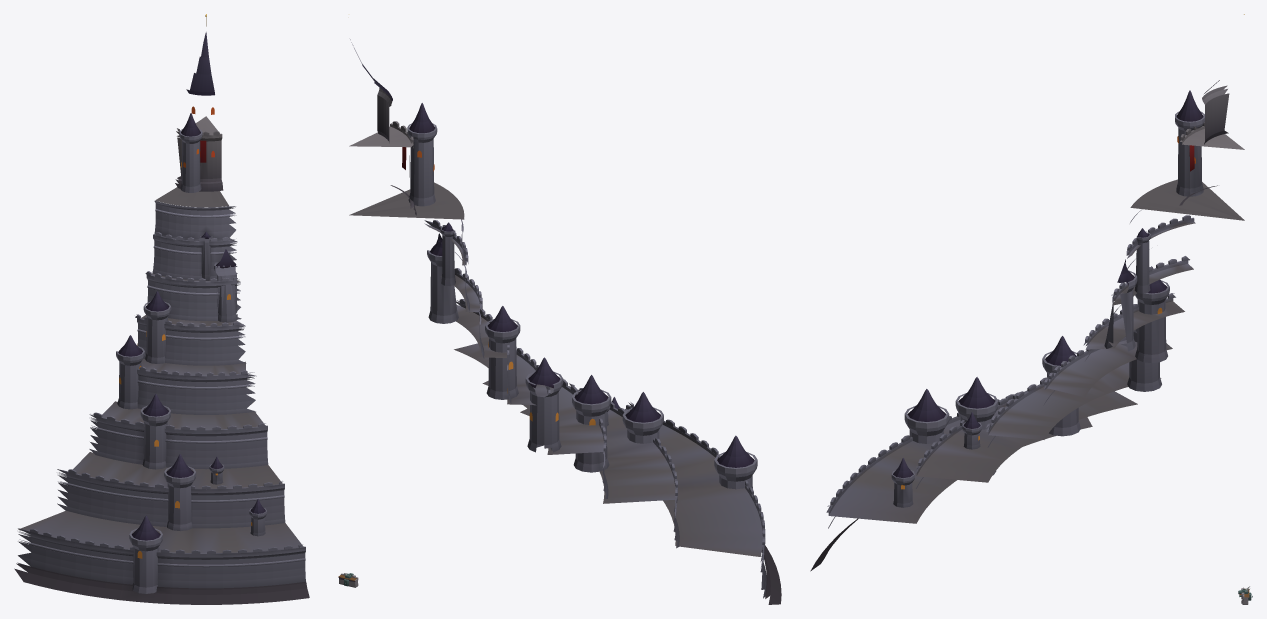
The model's file is fortress-s4-CAEbOp_h.glb.
3 views of the same model, side by side, from view 1: azimuth 30°, elevation 25°; view 2: azimuth 150°, elevation 25°; view 3: azimuth 270°, elevation 25° (orthographic). The views are drawn at different scales.
Parts seen in each view (by area): view 1: sc_landmark_4; view 2: sc_landmark_4; view 3: sc_landmark_4.
Boxes of the visible parts, box(x1,y1,x2,y2) form: sc_landmark_4: box(14, 14, 309, 604); sc_landmark_4: box(349, 39, 781, 604); sc_landmark_4: box(810, 14, 1244, 571).
Size of the model in its own units: 296 by 479 by 322.
